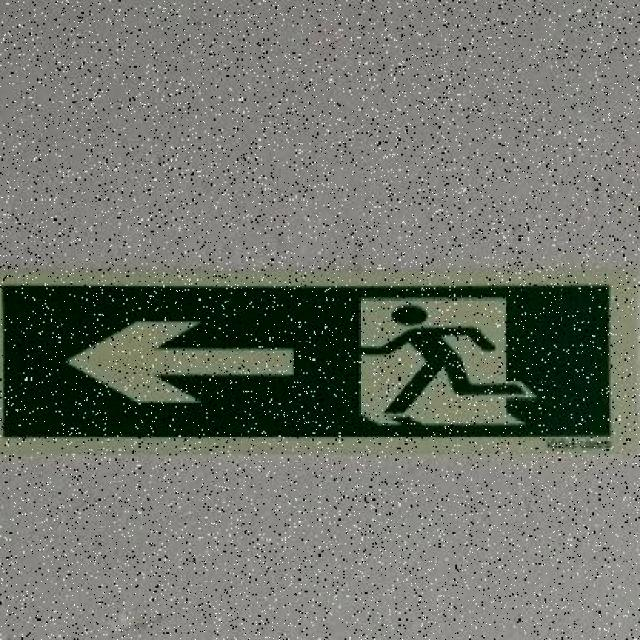emergency_exit: (2, 283, 613, 446)
